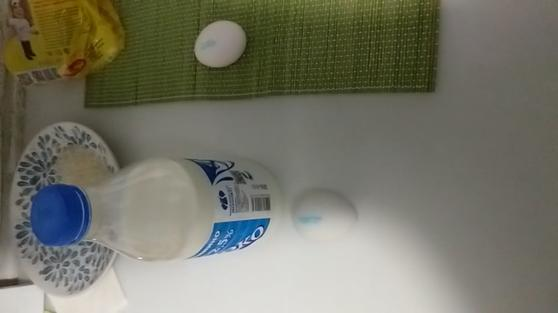egg: (285, 184, 366, 239), (179, 14, 254, 69)
milk: (27, 147, 283, 289)
